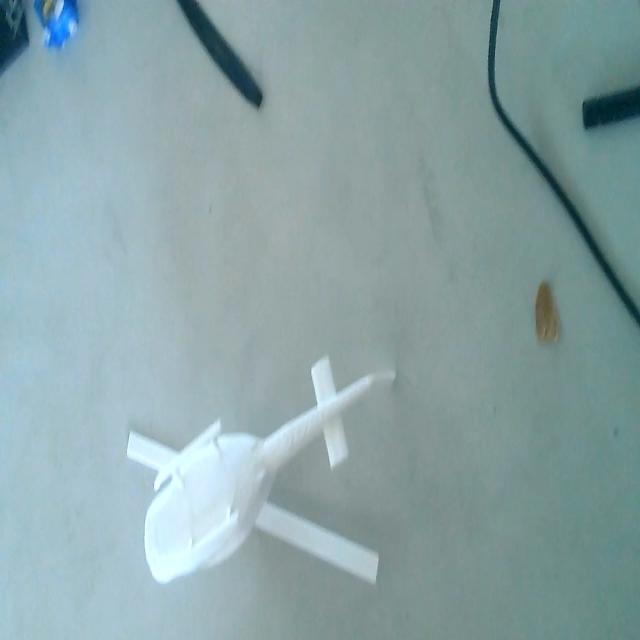Helicopter: (128, 352, 397, 606)
